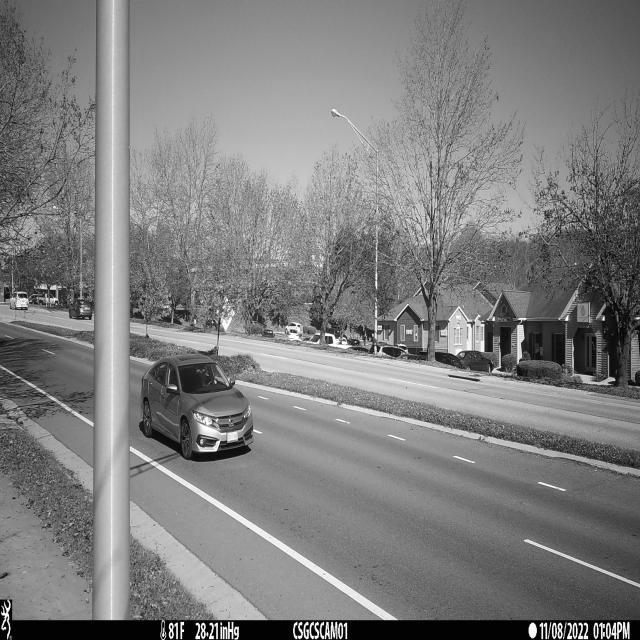Sedan: (142, 353, 256, 459)
